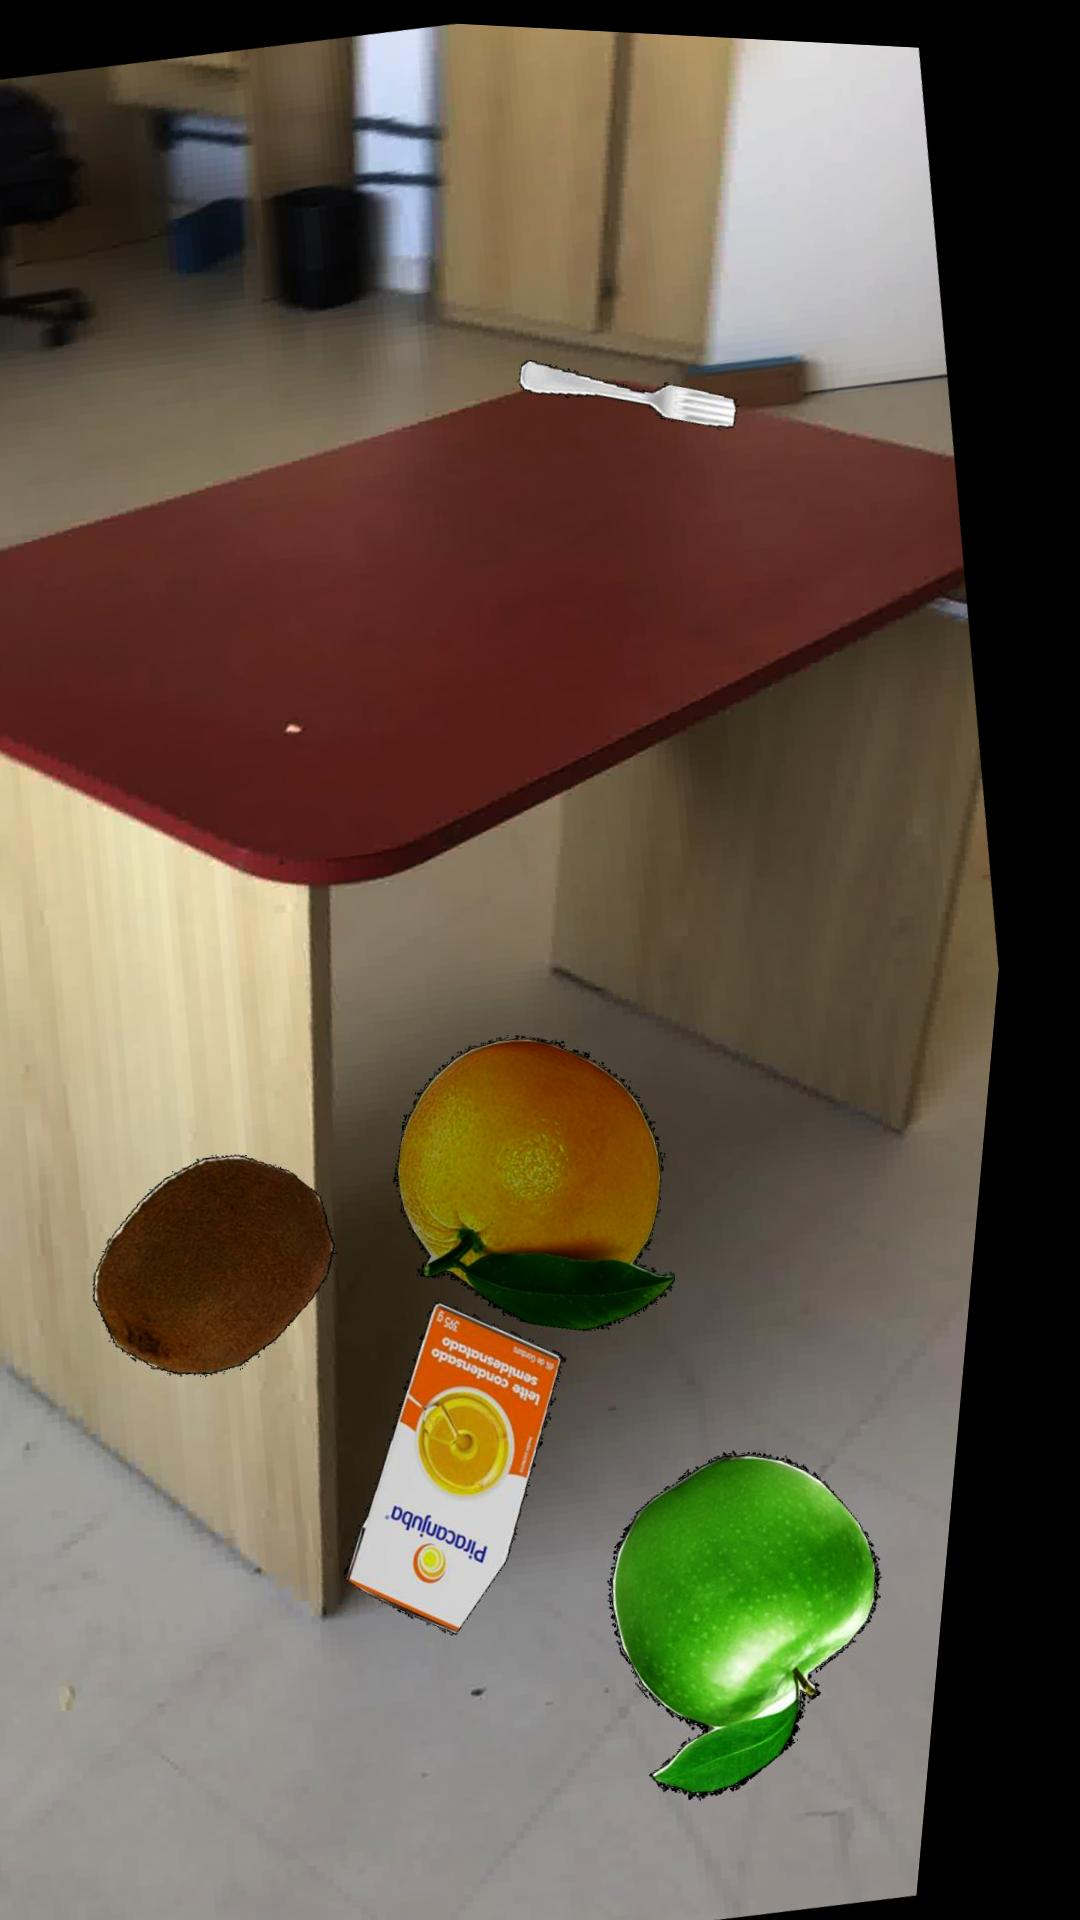fork: (527, 352, 745, 418)
green apple: (640, 1440, 911, 1789)
kiwi: (119, 1149, 359, 1370)
orange: (417, 1027, 700, 1321)
